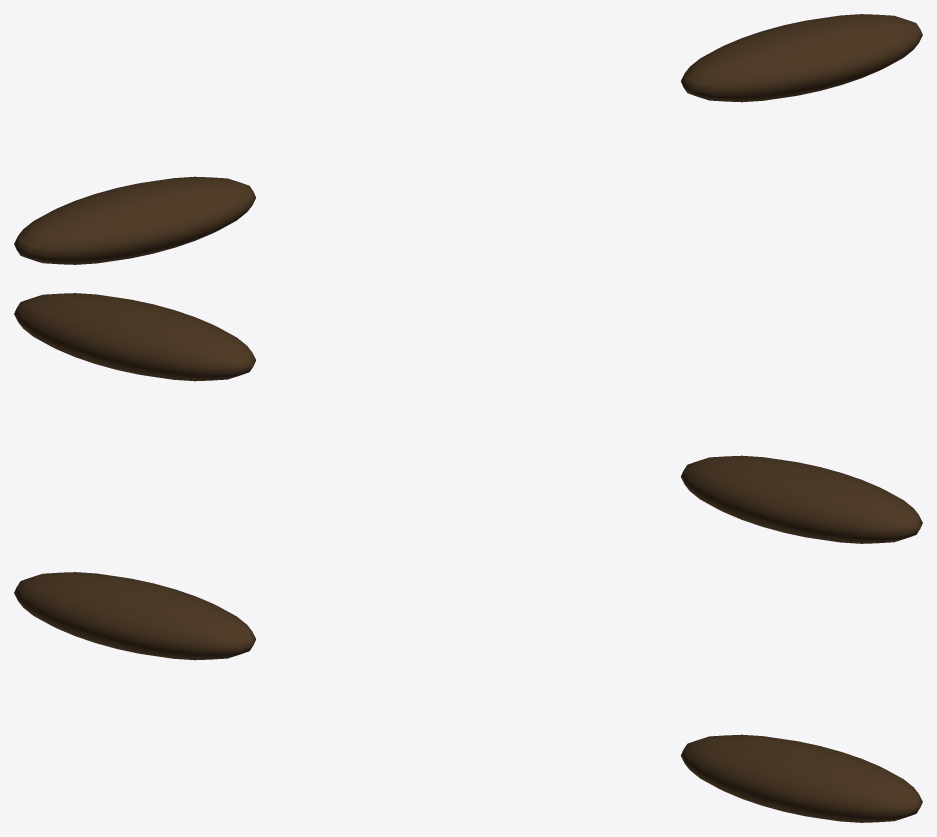
File: SM_PilgrimStudyV1_Eyes.obj
The picture shows the model from 3 angles, top to bottom: view 1: azimuth 30°, elevation 25°; view 2: azimuth 150°, elevation 25°; view 3: azimuth 330°, elevation 25°; orthographic projection.
Visible parts, largest first — view 1: Eye-1, Eye1; view 2: Eye-1, Eye1; view 3: Eye-1, Eye1.
Part boxes in pixels (x1,y1,x2,y2): Eye-1: [14, 176, 255, 264]; Eye1: [681, 14, 922, 102]; Eye-1: [681, 455, 922, 543]; Eye1: [14, 293, 255, 381]; Eye-1: [14, 572, 255, 660]; Eye1: [681, 734, 922, 822].
Size of the model in its own units: 8.54 by 0.5 by 0.84.
